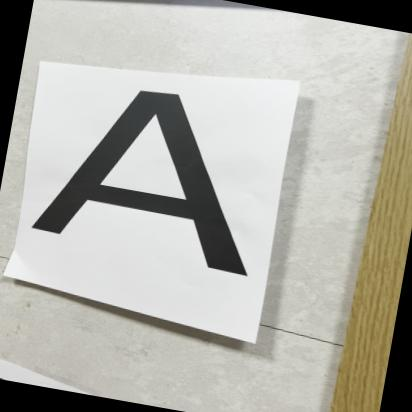seat: (12, 61, 290, 311)
